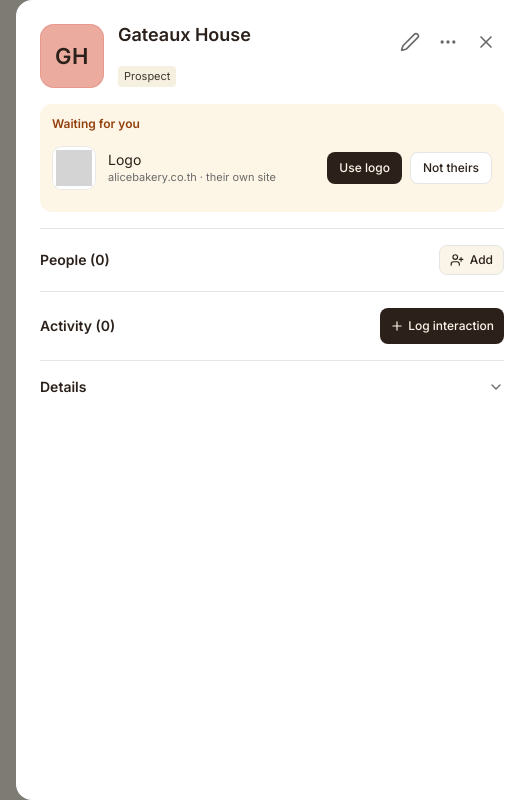
CompanyDetail › offers a logo found on their site and uses it on Use logo
The image size is (528, 800).
Expected: the text "alicebakery.co.th · their own site" is shown, [108, 170, 276, 184]
Click the button "Use logo".
click(365, 168)  # box [327, 152, 402, 184]
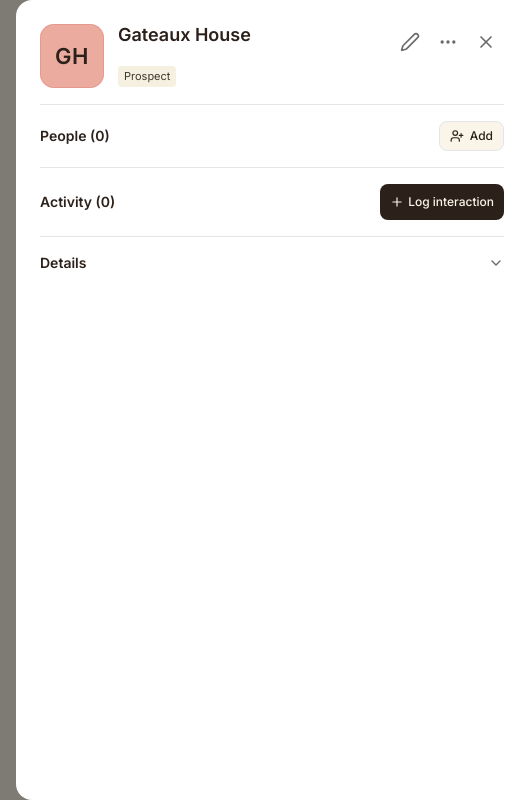
Now the button "Use logo" is gone
